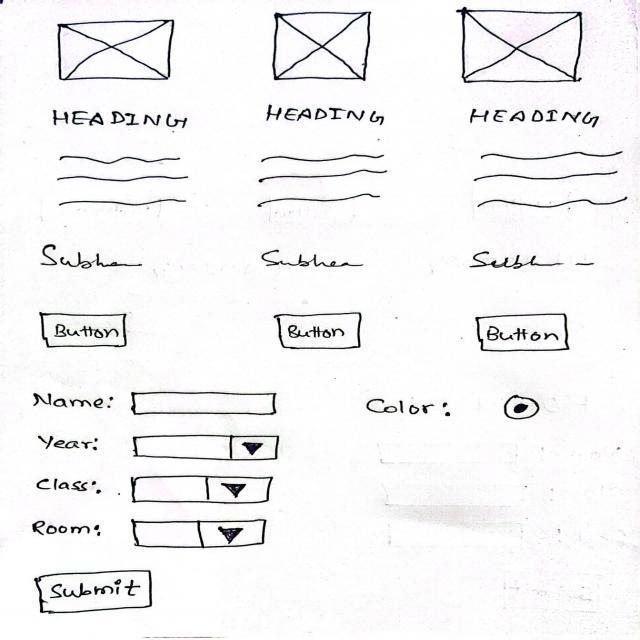button: (23, 302, 153, 357), (461, 308, 583, 361), (33, 571, 166, 619), (259, 306, 381, 358)
radio: (499, 388, 547, 430)
textbox: (123, 385, 292, 421)
